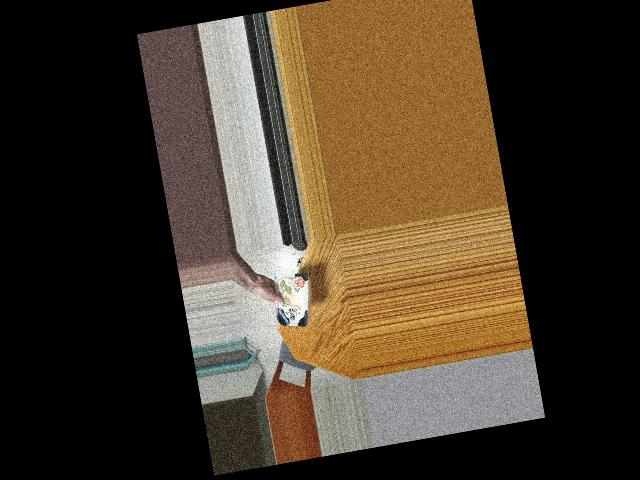cheese: (259, 266, 319, 331)
